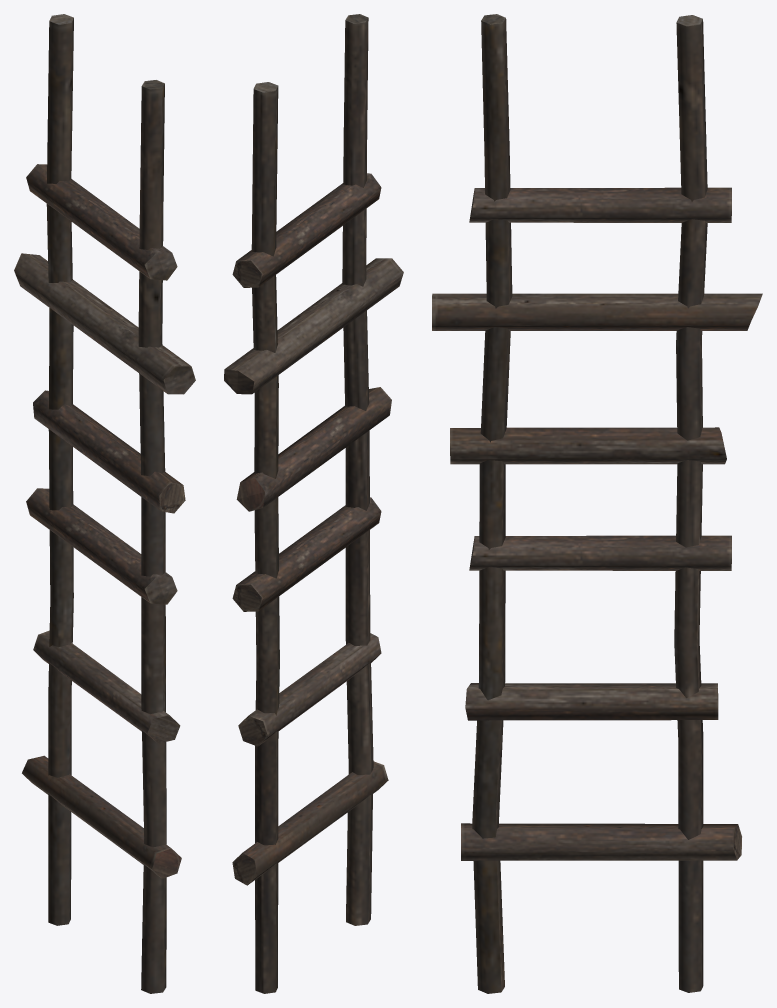
File: b_zx_mulangan02_01.FBX
The picture shows the model from 3 angles, left to right: view 1: azimuth 30°, elevation 25°; view 2: azimuth 150°, elevation 25°; view 3: azimuth 270°, elevation 25°; orthographic projection. The views are drawn at different scales.
Visible parts, largest first — view 1: b_zx_mulangan02_01; view 2: b_zx_mulangan02_01; view 3: b_zx_mulangan02_01.
Boxes of the visible parts, box(x1,y1,x2,y2) form: b_zx_mulangan02_01: box(14, 14, 195, 993); b_zx_mulangan02_01: box(224, 14, 403, 993); b_zx_mulangan02_01: box(432, 14, 762, 993).
Bounding box in the file's own units: 0.2769 × 7.32 × 2.27.
